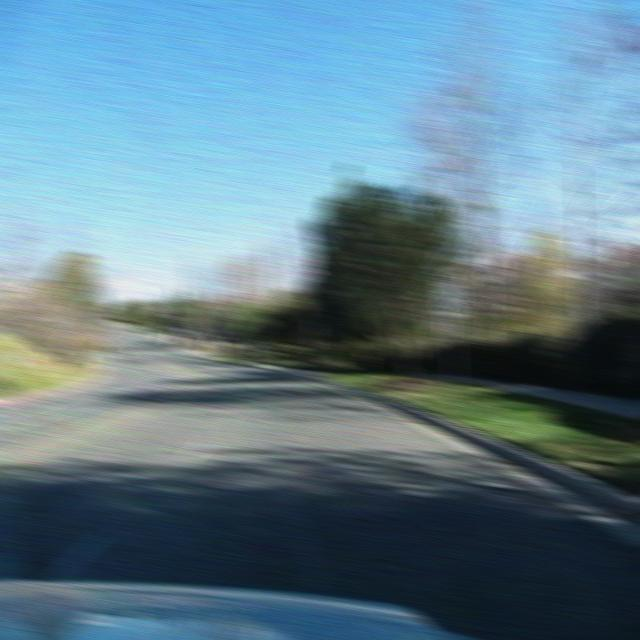speedLimit40: (435, 279, 465, 318)
